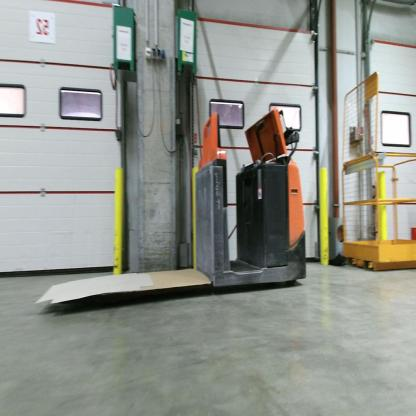pallet_truck: (47, 100, 312, 308)
